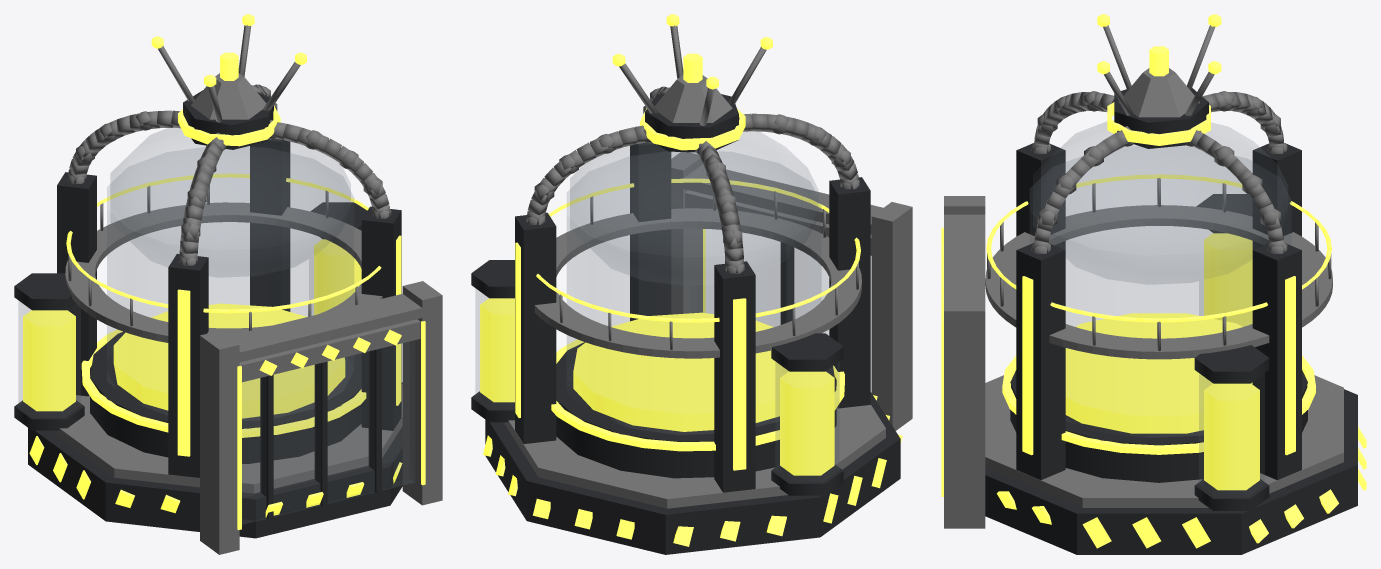
File: MonsterVat_SOLAR.glb
3 renders of one model, left to right at view 1: azimuth 30°, elevation 25°; view 2: azimuth 150°, elevation 25°; view 3: azimuth 270°, elevation 25°, orthographic. The views are drawn at different scales.
Parts seen in each view (by area): view 1: MonsterVat_SOLAR, MonsterVat_SOLAR_Gate; view 2: MonsterVat_SOLAR, MonsterVat_SOLAR_Gate; view 3: MonsterVat_SOLAR.
Boxes of the visible parts, bbox=[...] form: MonsterVat_SOLAR: bbox=[14, 14, 442, 554]; MonsterVat_SOLAR_Gate: bbox=[239, 319, 420, 524]; MonsterVat_SOLAR: bbox=[471, 14, 912, 554]; MonsterVat_SOLAR_Gate: bbox=[685, 190, 871, 391]; MonsterVat_SOLAR: bbox=[941, 14, 1366, 554].
Bounding box in the file's own units: 5.08 × 5.78 × 5.14.
